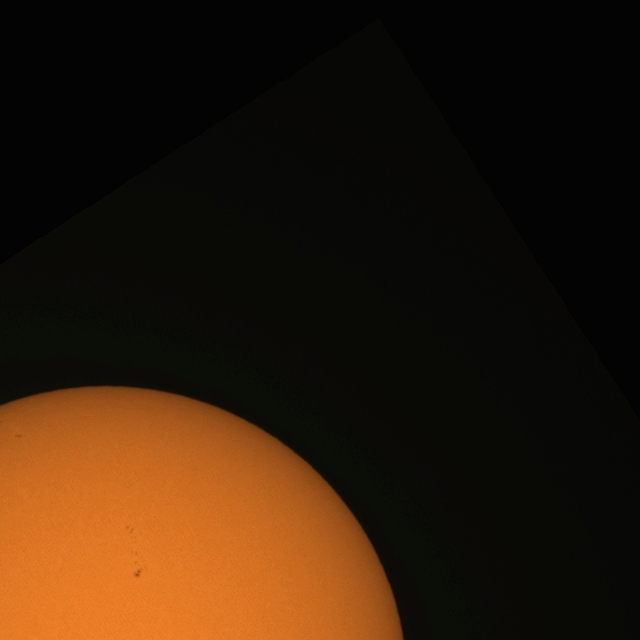sunspot: (131, 550, 144, 579), (125, 522, 138, 550), (125, 524, 135, 536)
